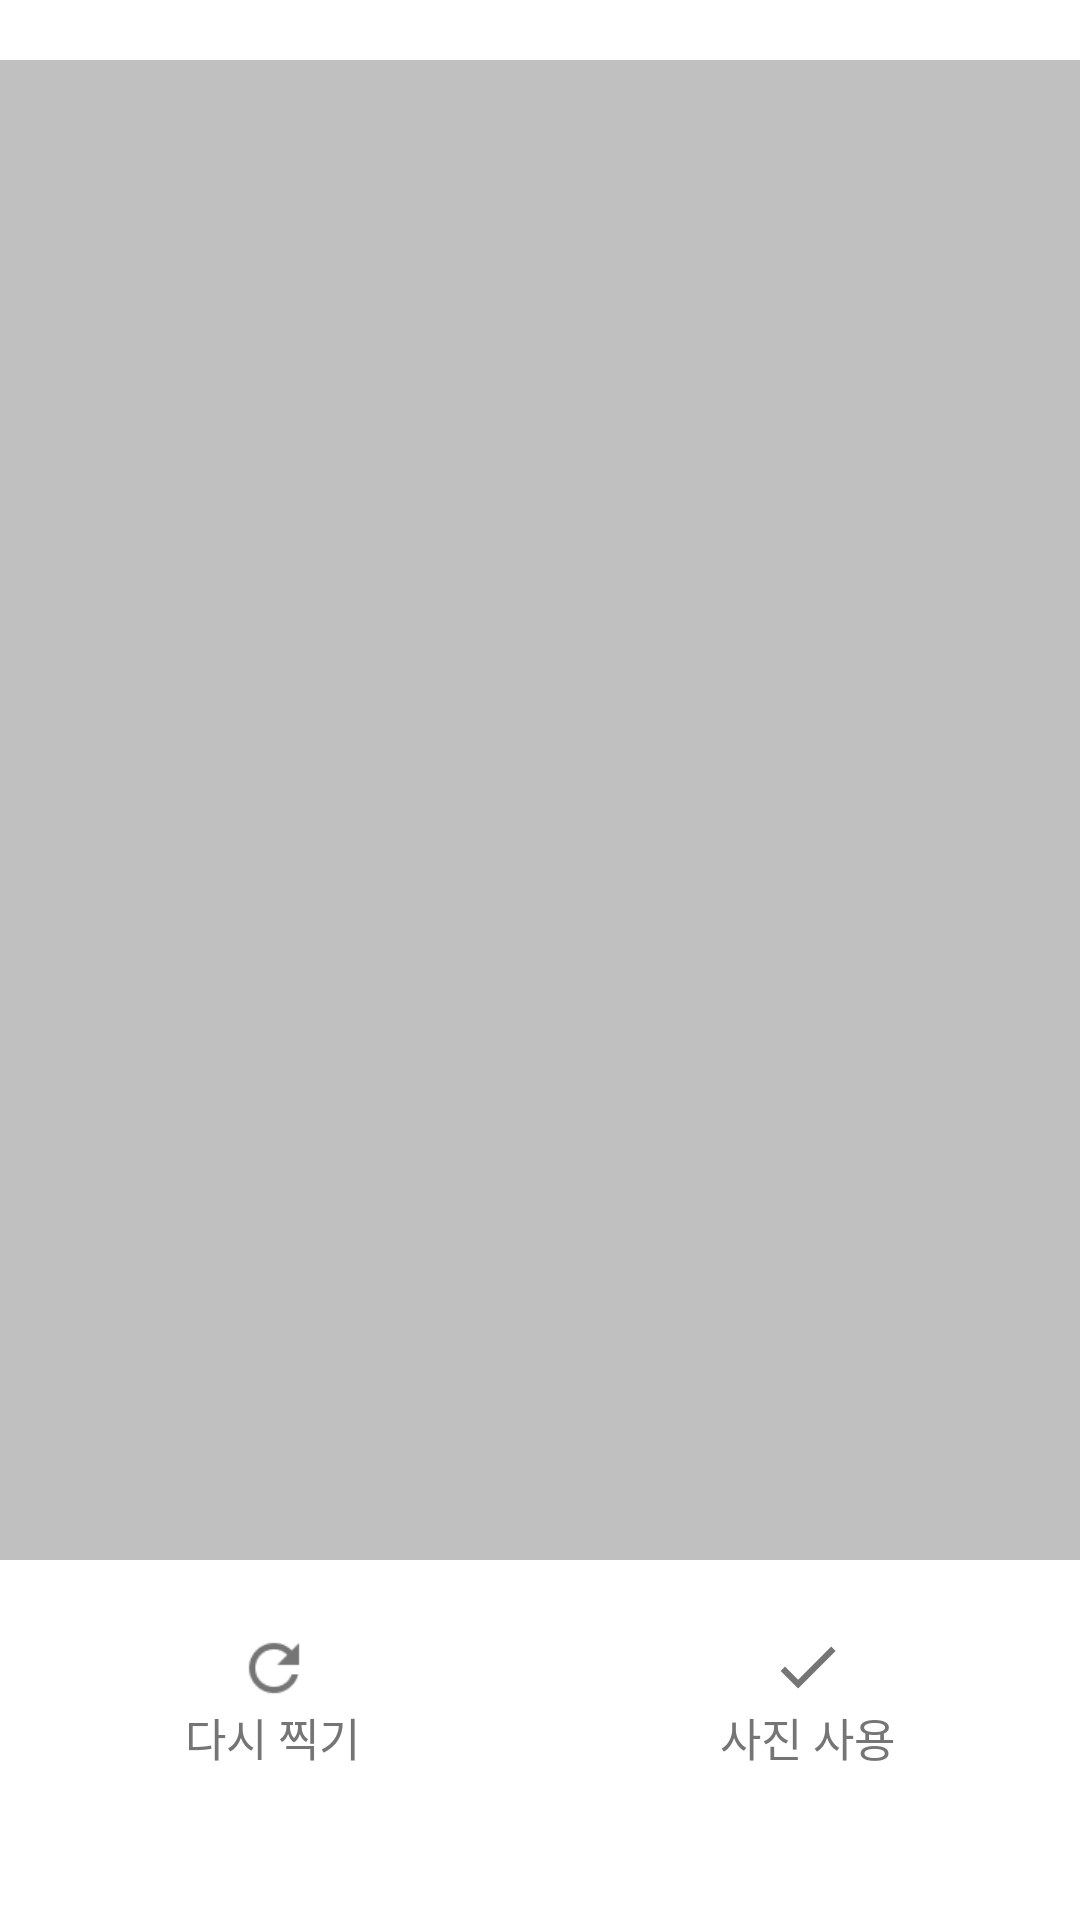

Point at icon controls on the screen. Image size 1080×1920, points as point (x, y).
done: point (808, 1667)
